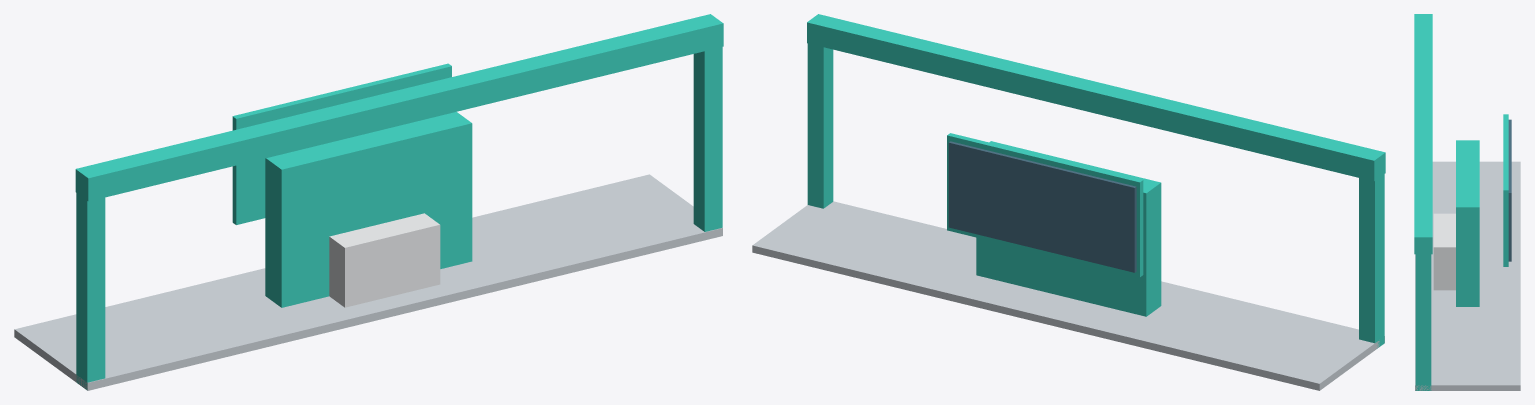
The picture shows the model from 3 angles, left to right: view 1: azimuth 30°, elevation 25°; view 2: azimuth 150°, elevation 25°; view 3: azimuth 270°, elevation 25°; orthographic projection. The views are drawn at different scales.
Visible parts, largest first — view 1: Exhibition Booth Concept; view 2: Exhibition Booth Concept; view 3: Exhibition Booth Concept.
Boxes of the visible parts, x1,y1,x2,y2 form: Exhibition Booth Concept: (14, 14, 723, 390); Exhibition Booth Concept: (752, 14, 1385, 390); Exhibition Booth Concept: (1414, 14, 1520, 390).
Bounding box in the file's own units: 10 × 3.2 × 2.01.
